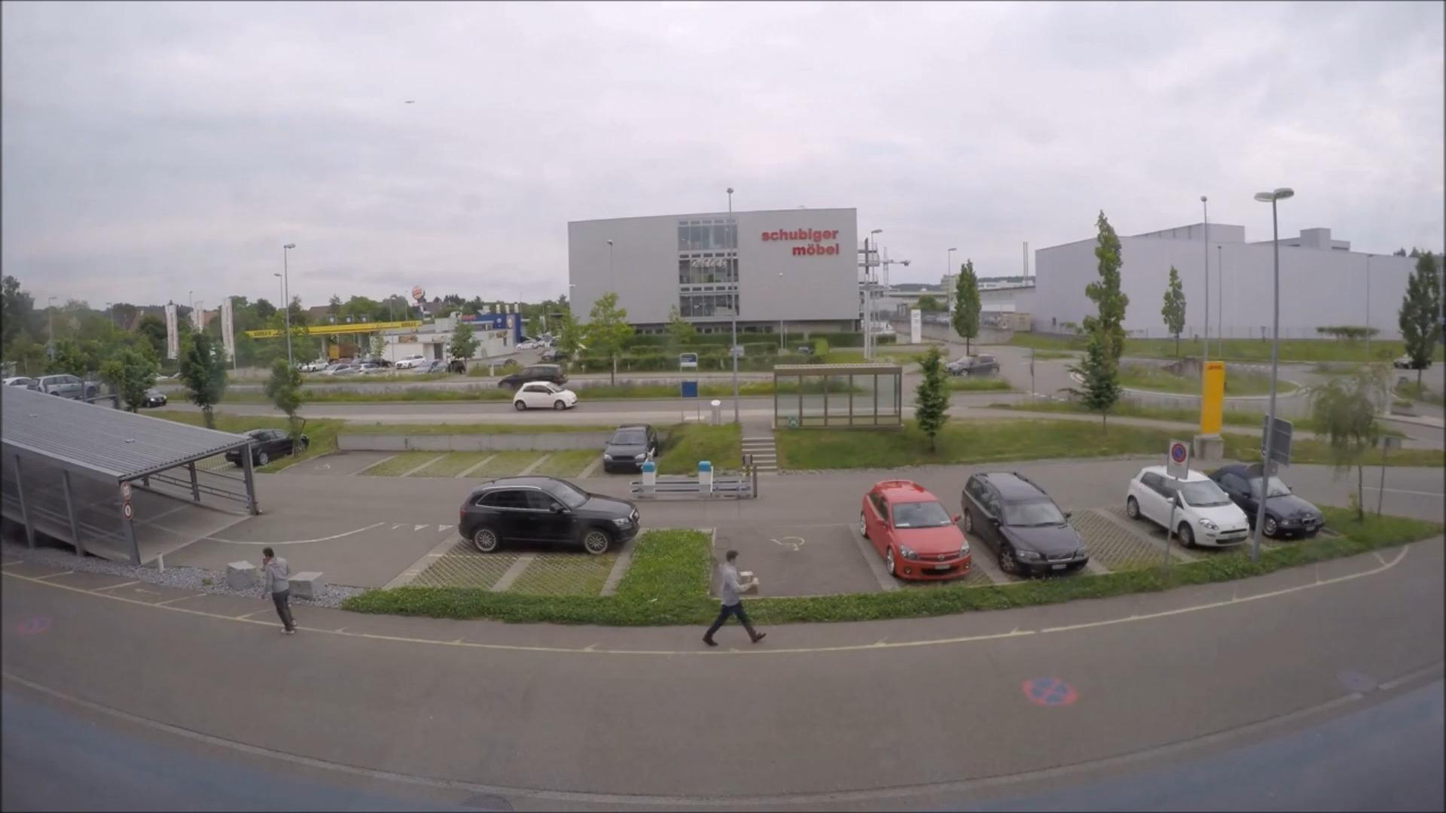occupied: (457, 475, 643, 556), (962, 469, 1090, 577), (861, 480, 967, 582), (1201, 464, 1320, 540), (224, 428, 307, 468), (601, 423, 658, 473), (513, 381, 578, 411), (33, 373, 90, 399), (946, 354, 1000, 377), (140, 389, 168, 408), (395, 354, 429, 369), (1392, 354, 1418, 371), (358, 358, 393, 370), (3, 376, 35, 388), (298, 360, 327, 372)
